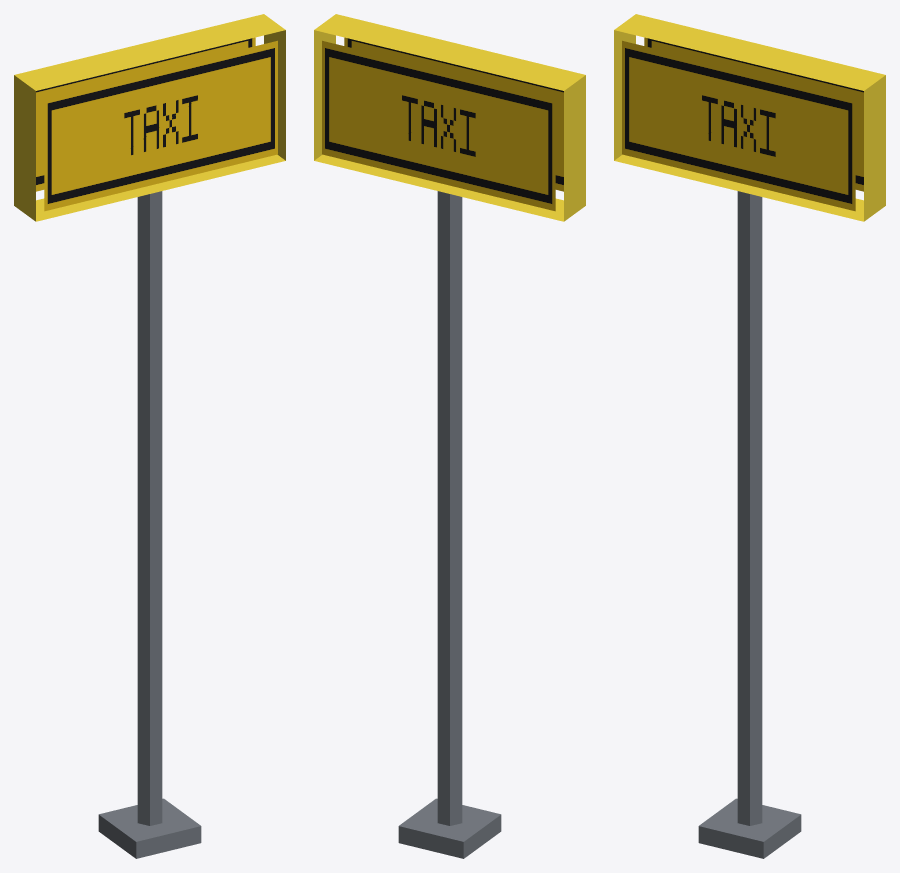
The model's file is site_taxi.fbx.
3 views of the same model, side by side, from view 1: azimuth 30°, elevation 25°; view 2: azimuth 150°, elevation 25°; view 3: azimuth 330°, elevation 25° (orthographic).
Visible parts, largest first — view 1: a3002/0/site_taxi; view 2: a3002/0/site_taxi; view 3: a3002/0/site_taxi.
Boxes of the visible parts, x1,y1,x2,y2 form: a3002/0/site_taxi: [14, 14, 285, 858]; a3002/0/site_taxi: [314, 14, 585, 858]; a3002/0/site_taxi: [614, 14, 885, 858].
Bounding box in the file's own units: 0.92 × 2.76 × 0.24.
